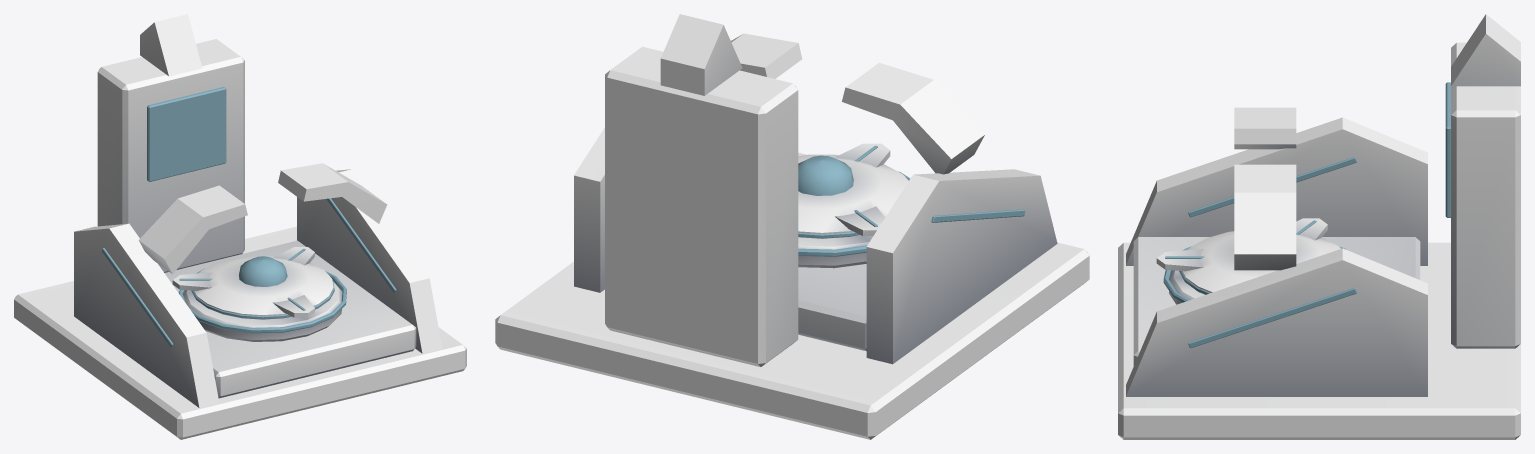
The model's file is R4X_ExplosiveTrapDeployer_LOD1.fbx.
3 renders of one model, left to right at view 1: azimuth 30°, elevation 25°; view 2: azimuth 150°, elevation 25°; view 3: azimuth 270°, elevation 25°, orthographic. The views are drawn at different scales.
Visible parts, largest first — view 1: R4X_ExplosiveTrapDeployer_LOD1; view 2: R4X_ExplosiveTrapDeployer_LOD1; view 3: R4X_ExplosiveTrapDeployer_LOD1.
Boxes of the visible parts, x1=… form: R4X_ExplosiveTrapDeployer_LOD1: x1=14, y1=14, x2=466, y2=439; R4X_ExplosiveTrapDeployer_LOD1: x1=495, y1=14, x2=1089, y2=439; R4X_ExplosiveTrapDeployer_LOD1: x1=1118, y1=14, x2=1520, y2=439.
Size of the model in its own units: 0.52 by 0.475 by 0.52.
